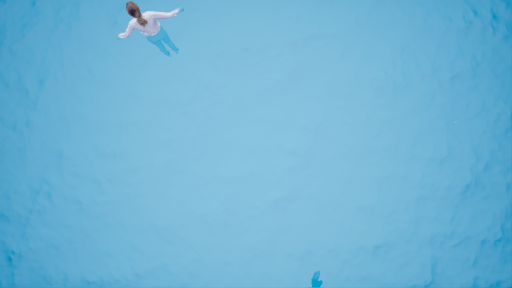person: (113, 4, 184, 57)
